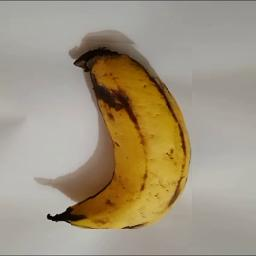Banana Semifresh: (42, 39, 192, 229)
